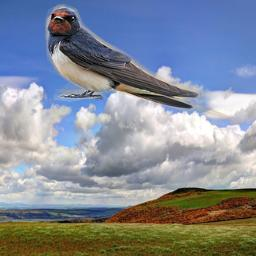Swallow: (45, 4, 246, 125)
